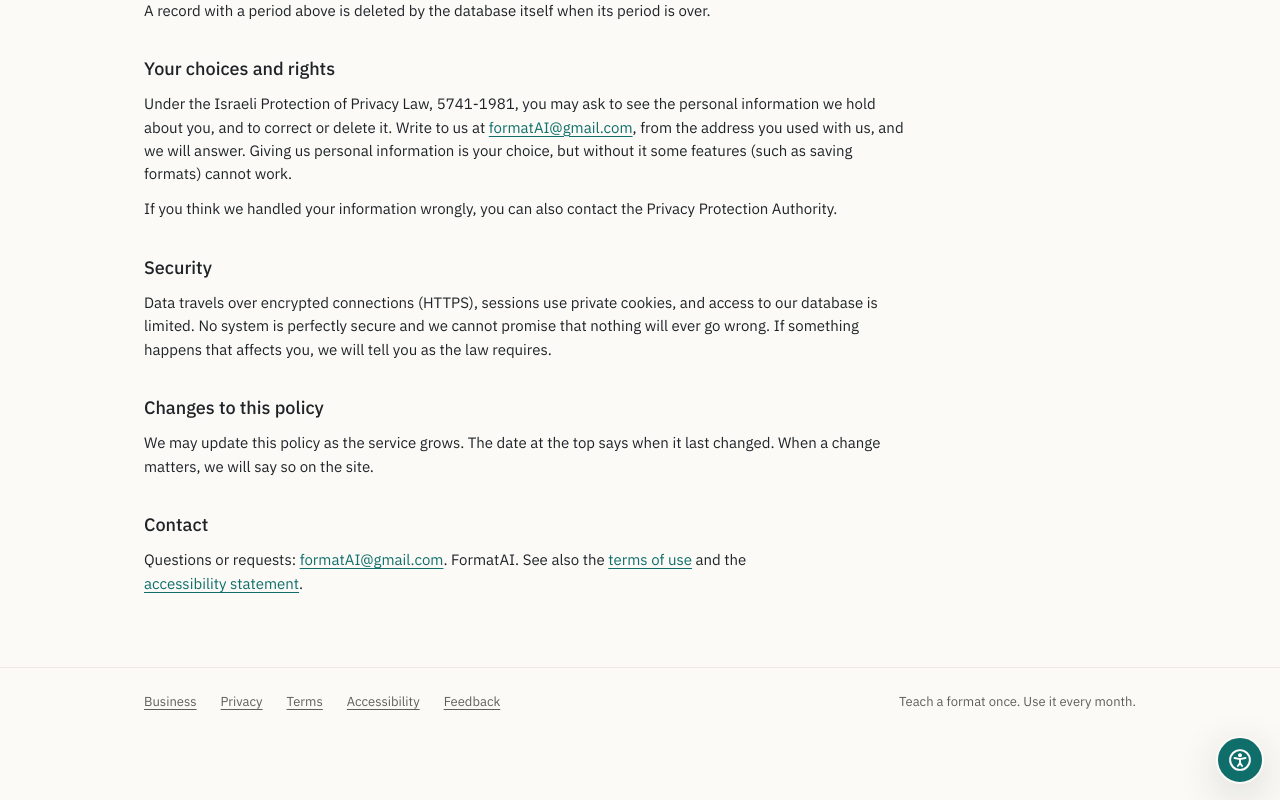
Test case: structural accessibility (en) › the feedback dialog
(page scrolled)
Click the button "Feedback".
click(472, 702)  # box left=444, top=692, right=500, bottom=712
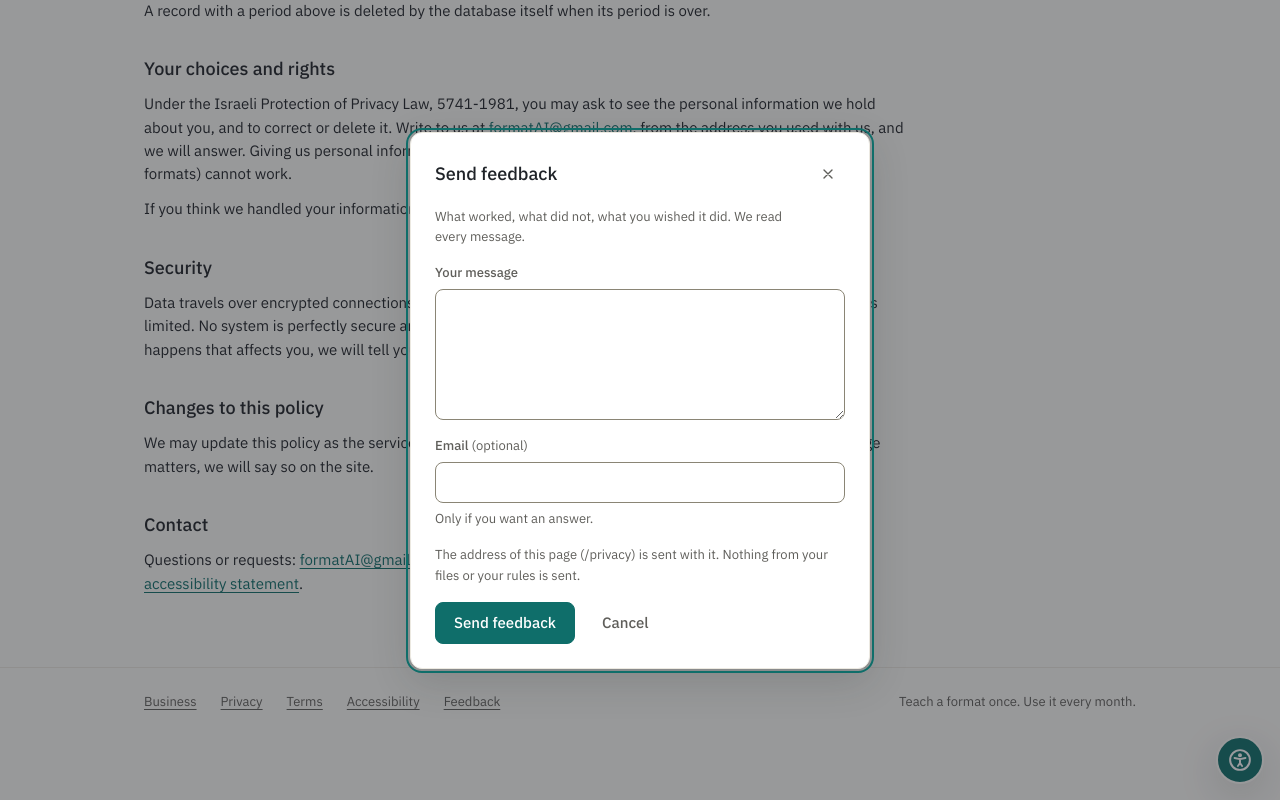
Expected: the dialog is shown, left=410, top=132, right=870, bottom=668
